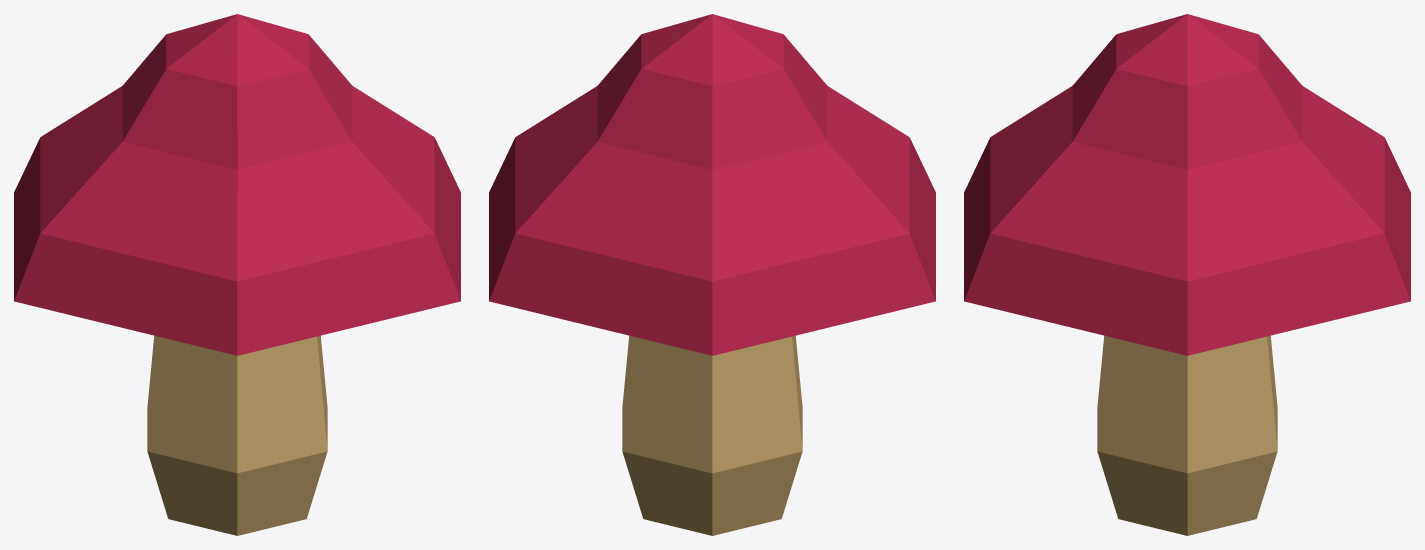
The model's file is Mushroom.fbx.
3 renders of one model, left to right at view 1: azimuth 30°, elevation 25°; view 2: azimuth 150°, elevation 25°; view 3: azimuth 270°, elevation 25°, orthographic.
Visible parts, largest first — view 1: Mushroom; view 2: Mushroom; view 3: Mushroom.
Boxes of the visible parts, x1=… form: Mushroom: x1=14, y1=14, x2=460, y2=535; Mushroom: x1=489, y1=14, x2=935, y2=535; Mushroom: x1=964, y1=14, x2=1410, y2=535.
Bounding box in the file's own units: 12.45 × 13.43 × 10.78.
